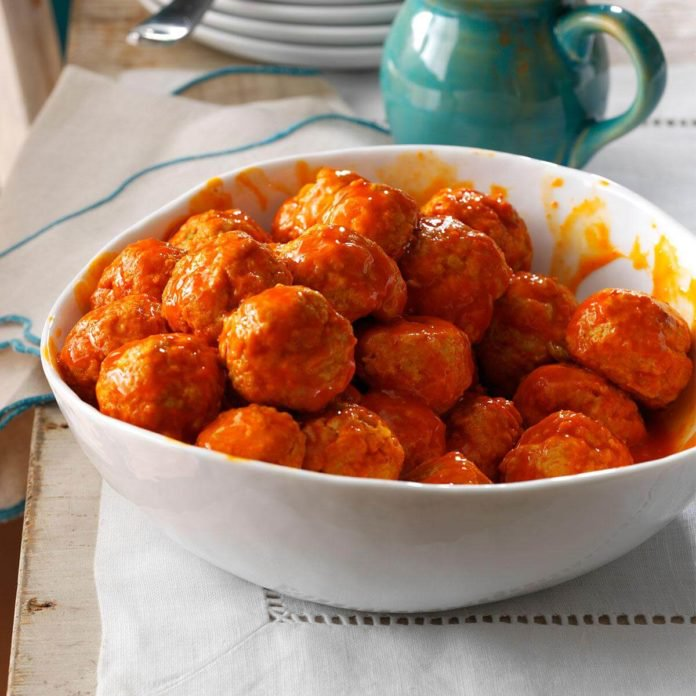meatballs: (144, 223, 620, 418)
